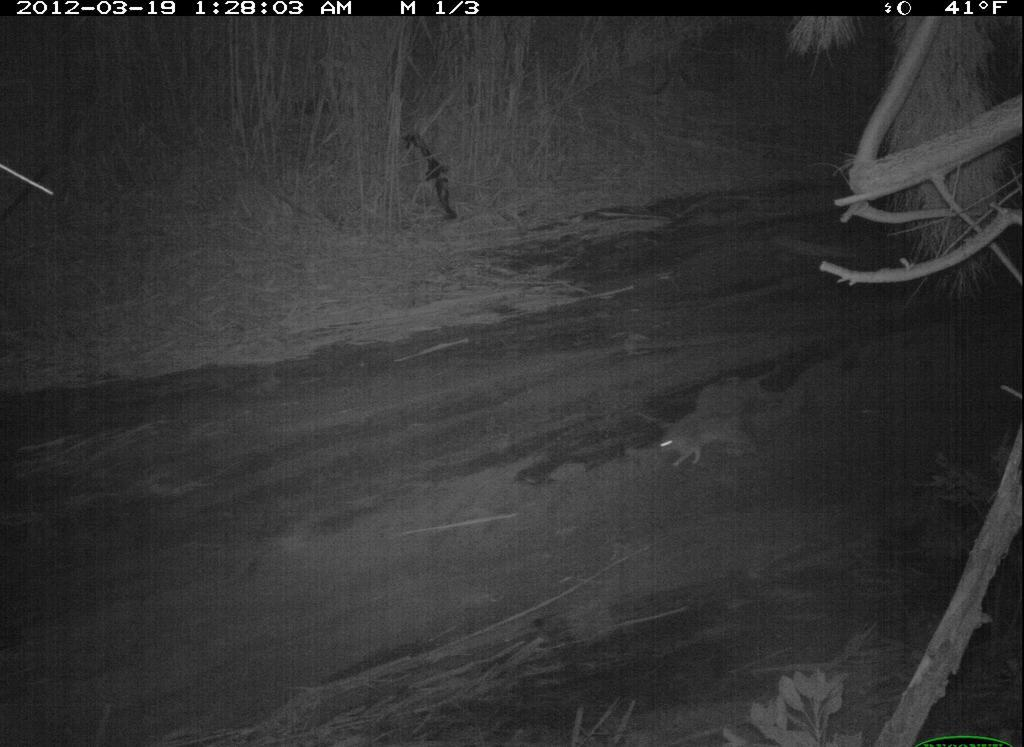rabbit: (617, 355, 824, 487)
